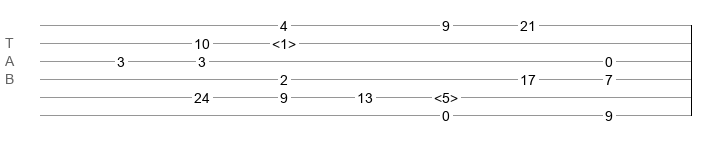0: (442, 108, 450, 118), (605, 54, 613, 64)
10: (194, 36, 210, 46)
13: (357, 90, 373, 100)
17: (520, 72, 536, 82)
2: (280, 72, 288, 82)
21: (520, 18, 536, 28)
24: (194, 90, 210, 100)
3: (117, 54, 125, 64), (198, 54, 206, 64)
4: (280, 18, 288, 28)
7: (605, 72, 613, 82)
9: (280, 90, 288, 100), (442, 18, 450, 28), (605, 108, 613, 118)
harmonic: (272, 36, 296, 46), (434, 90, 458, 100)
